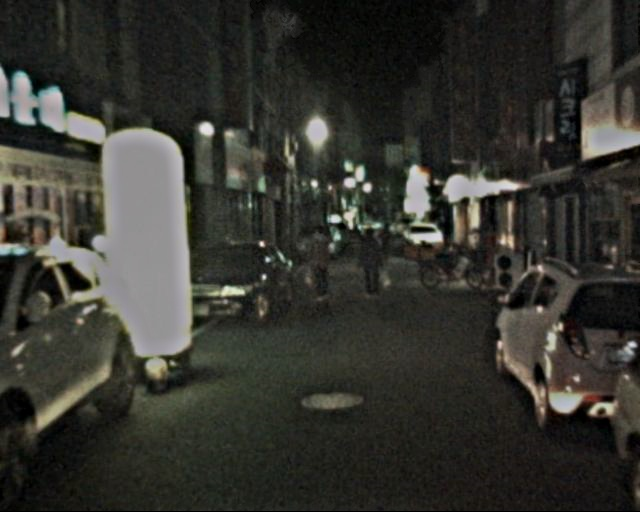person: (304, 222, 340, 307), (351, 227, 383, 306)
